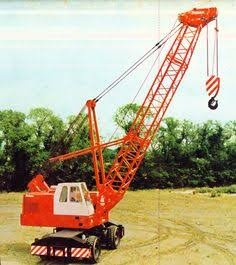crane: (20, 9, 229, 256)
